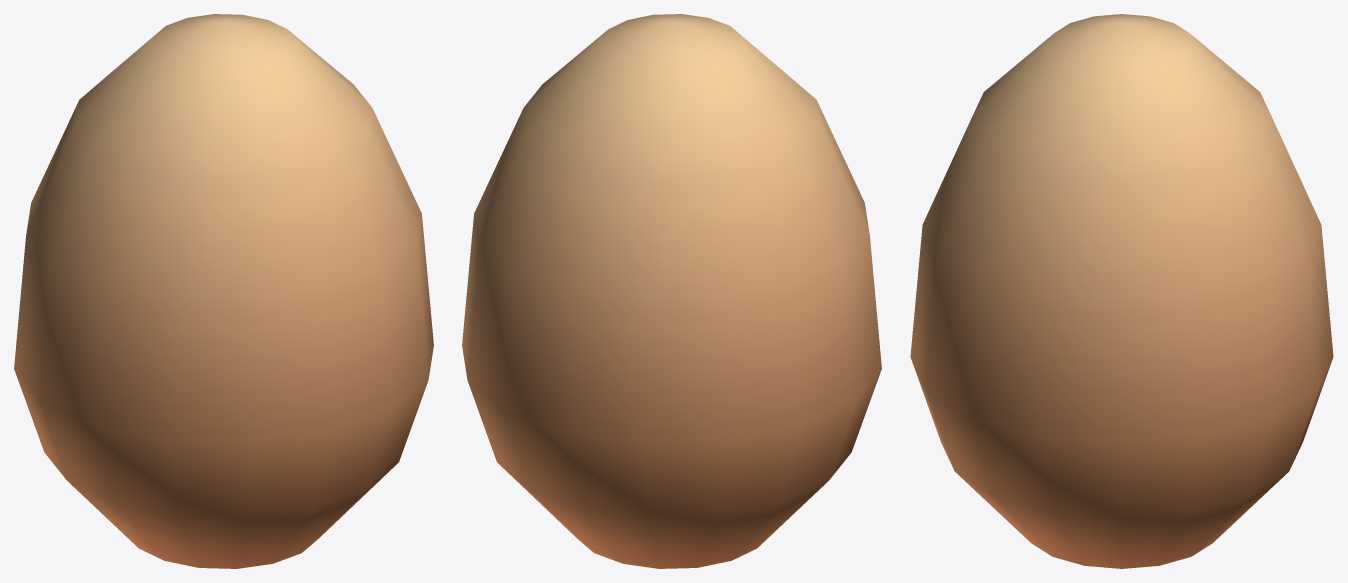
Rendered from Egg.glb.
3 renders of one model, left to right at view 1: azimuth 30°, elevation 25°; view 2: azimuth 150°, elevation 25°; view 3: azimuth 270°, elevation 25°, orthographic.
Parts seen in each view (by area): view 1: Egg; view 2: Egg; view 3: Egg.
Boxes of the visible parts, x1,y1,x2,y2 form: Egg: (14,14,433,568); Egg: (462,14,881,568); Egg: (910,14,1333,568).
Bounding box in the file's own units: 0.2733 × 0.3749 × 0.2733.
Materials: 1 (1 with a texture image).
